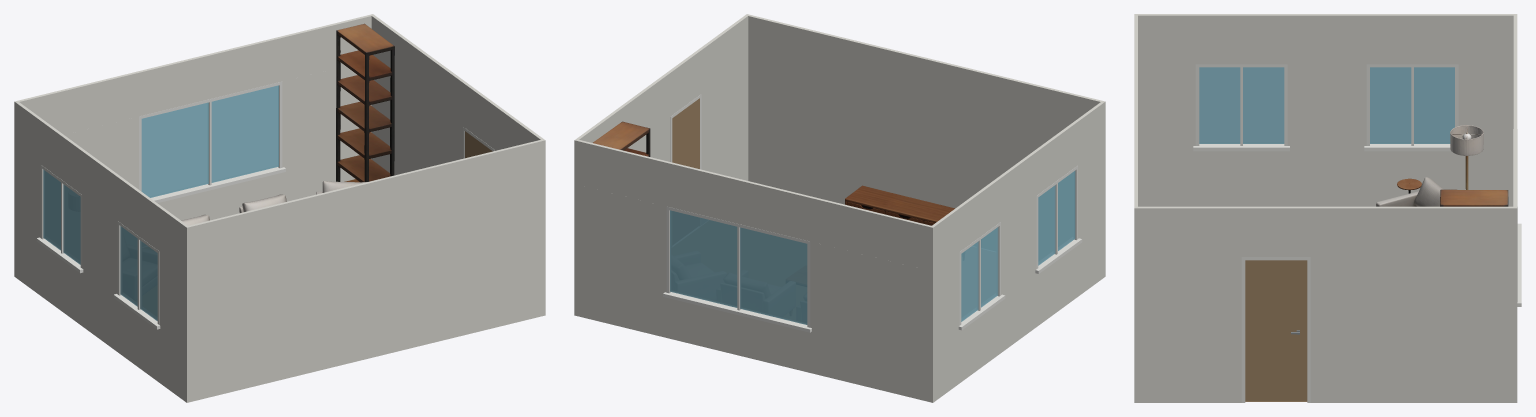
Rendered from scenesmith.glb.
3 views of the same model, side by side, from view 1: azimuth 30°, elevation 25°; view 2: azimuth 150°, elevation 25°; view 3: azimuth 270°, elevation 25° (orthographic). The views are drawn at different scales.
Parts seen in each view (by area): view 1: scene_075_living_room_south_wall, scene_075_living_room_north_wall, scene_075_living_room_west_wall, scene_075_living_room_east_wall, scene_075_living_room_north_wall Window 0 | glazing, furniture_group, scene_075_living_room_west_wall Window 0 | glazing, scene_075_living_room_west_wall Window 0 | jamb, scene_075_living_room_north_wall Window 0 | jamb; view 2: scene_075_living_room_north_wall, scene_075_living_room_south_wall, scene_075_living_room_west_wall, scene_075_living_room_east_wall, scene_075_living_room_north_wall Window 0 | glazing, scene_075_living_room_west_wall Window 0 | glazing, furniture_group, scene_075_living_room_north_wall Window 0 | jamb, scene_075_living_room_west_wall Window 0 | jamb, scene_075_living_room_east_wall Door 0 | wood leaf; view 3: scene_075_living_room_east_wall, scene_075_living_room_west_wall, scene_075_living_room_west_wall Window 0 | glazing, scene_075_living_room_east_wall Door 0 | wood leaf, scene_075_living_room_west_wall Window 0 | jamb, furniture_group, scene_075_living_room_east_wall Door 0 | jamb, scene_075_living_room_north_wall, scene_075_living_room_south_wall, scene_075_living_room_north_wall Window 0 | jamb.
Boxes of the visible parts, x1=… form: scene_075_living_room_south_wall: x1=187, y1=140, x2=545, y2=402; scene_075_living_room_north_wall: x1=17, y1=15, x2=371, y2=220; scene_075_living_room_west_wall: x1=14, y1=101, x2=189, y2=402; scene_075_living_room_east_wall: x1=370, y1=14, x2=545, y2=315; scene_075_living_room_north_wall Window 0 | glazing: x1=141, y1=85, x2=278, y2=197; furniture_group: x1=181, y1=23, x2=394, y2=225; scene_075_living_room_west_wall Window 0 | glazing: x1=43, y1=169, x2=157, y2=320; scene_075_living_room_west_wall Window 0 | jamb: x1=36, y1=165, x2=160, y2=329; scene_075_living_room_north_wall Window 0 | jamb: x1=139, y1=81, x2=285, y2=202; scene_075_living_room_north_wall: x1=574, y1=140, x2=932, y2=402; scene_075_living_room_south_wall: x1=748, y1=15, x2=1102, y2=208; scene_075_living_room_west_wall: x1=930, y1=101, x2=1105, y2=402; scene_075_living_room_east_wall: x1=575, y1=14, x2=749, y2=180; scene_075_living_room_north_wall Window 0 | glazing: x1=670, y1=210, x2=807, y2=324; scene_075_living_room_west_wall Window 0 | glazing: x1=961, y1=171, x2=1075, y2=321; furniture_group: x1=593, y1=121, x2=954, y2=225; scene_075_living_room_north_wall Window 0 | jamb: x1=663, y1=206, x2=811, y2=332; scene_075_living_room_west_wall Window 0 | jamb: x1=958, y1=165, x2=1082, y2=330; scene_075_living_room_east_wall Door 0 | wood leaf: x1=672, y1=98, x2=699, y2=168; scene_075_living_room_east_wall: x1=1134, y1=206, x2=1517, y2=402; scene_075_living_room_west_wall: x1=1134, y1=14, x2=1517, y2=206; scene_075_living_room_west_wall Window 0 | glazing: x1=1199, y1=67, x2=1454, y2=143; scene_075_living_room_east_wall Door 0 | wood leaf: x1=1245, y1=260, x2=1307, y2=401; scene_075_living_room_west_wall Window 0 | jamb: x1=1193, y1=64, x2=1458, y2=151; furniture_group: x1=1376, y1=125, x2=1508, y2=206; scene_075_living_room_east_wall Door 0 | jamb: x1=1241, y1=257, x2=1310, y2=402; scene_075_living_room_north_wall: x1=1513, y1=15, x2=1517, y2=206; scene_075_living_room_south_wall: x1=1134, y1=15, x2=1137, y2=206; scene_075_living_room_north_wall Window 0 | jamb: x1=1513, y1=129, x2=1521, y2=306.
Size of the model in its own units: 6.1 by 2.81 by 5.06.
12 materials, 6 textured.
